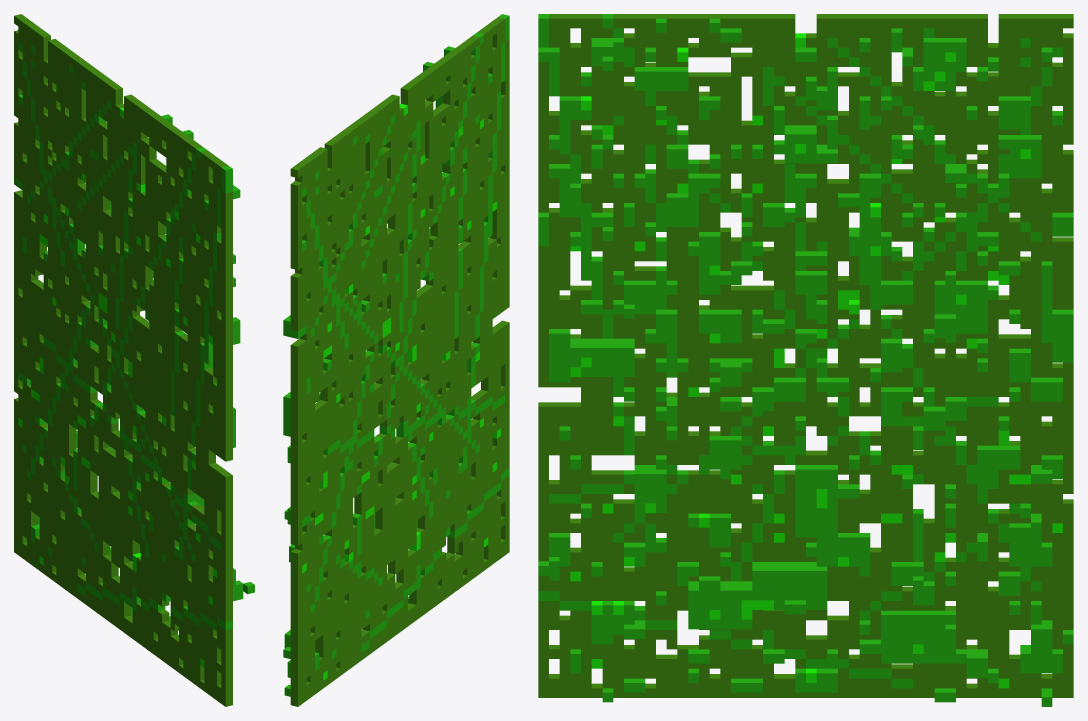
The model's file is grs.obj.
3 renders of one model, left to right at view 1: azimuth 30°, elevation 25°; view 2: azimuth 150°, elevation 25°; view 3: azimuth 270°, elevation 25°, orthographic. The views are drawn at different scales.
Visible parts, largest first — view 1: grs; view 2: grs; view 3: grs.
Boxes of the visible parts, bbox=[...] form: grs: bbox=[14, 14, 254, 706]; grs: bbox=[283, 14, 509, 706]; grs: bbox=[538, 14, 1073, 706].
Size of the model in its own units: 4 by 70 by 50.
1 material, 1 textured.
